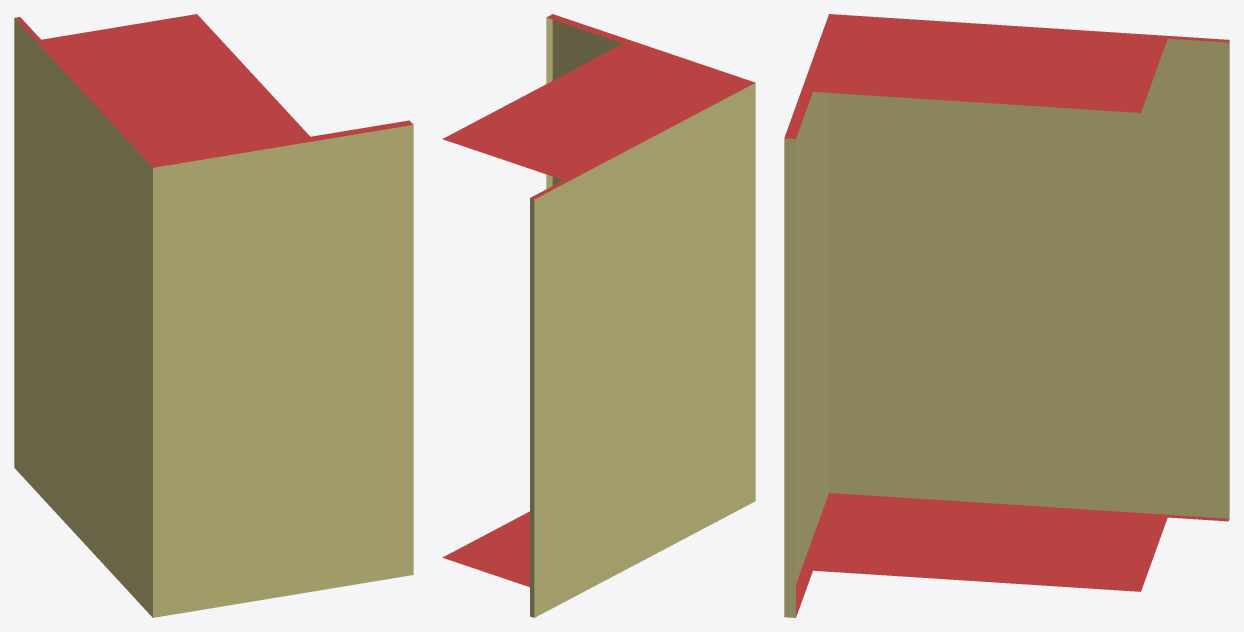
3 renders of one model, left to right at view 1: azimuth 30°, elevation 25°; view 2: azimuth 150°, elevation 25°; view 3: azimuth 270°, elevation 25°, orthographic. The views are drawn at different scales.
Bounding box in the file's own units: 5.44 × 8.19 × 9.71.
